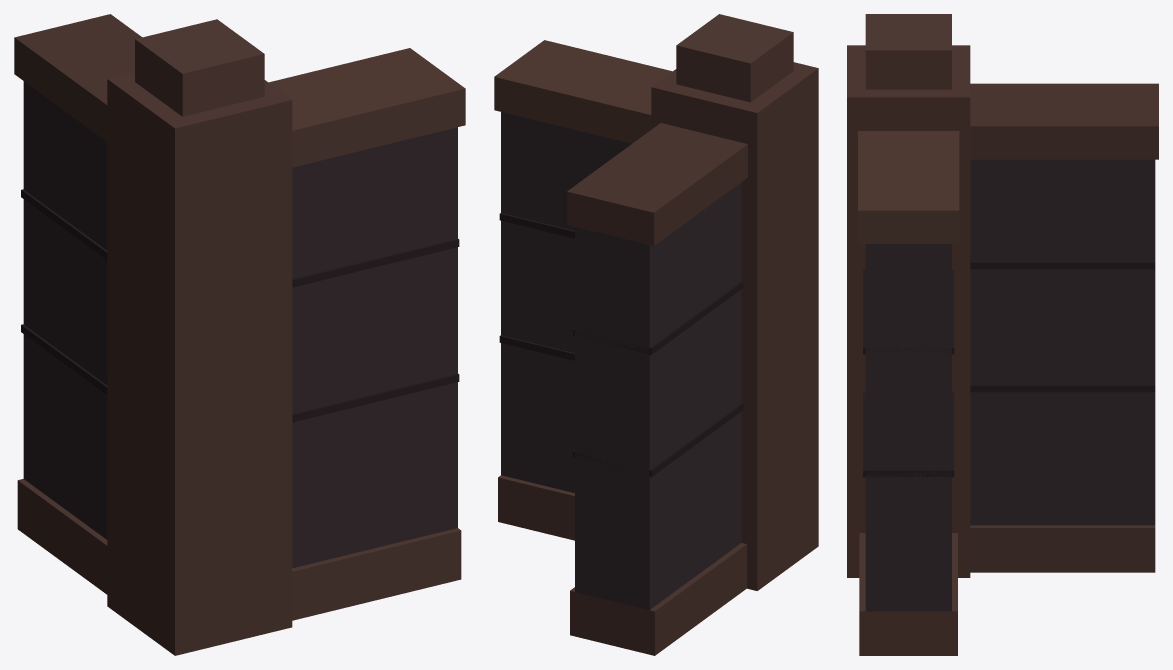
The model's file is wall_corner_4m.glb.
The picture shows the model from 3 angles, left to right: view 1: azimuth 30°, elevation 25°; view 2: azimuth 150°, elevation 25°; view 3: azimuth 270°, elevation 25°; orthographic projection. The views are drawn at different scales.
Parts seen in each view (by area): view 1: wall_corner_4m; view 2: wall_corner_4m; view 3: wall_corner_4m.
Part boxes in pixels (left/top/right/bottom): wall_corner_4m: left=14, top=14, right=465, bottom=655; wall_corner_4m: left=494, top=14, right=818, bottom=655; wall_corner_4m: left=847, top=14, right=1158, bottom=655.
Bounding box in the file's own units: 2.53 × 4.65 × 2.53.
